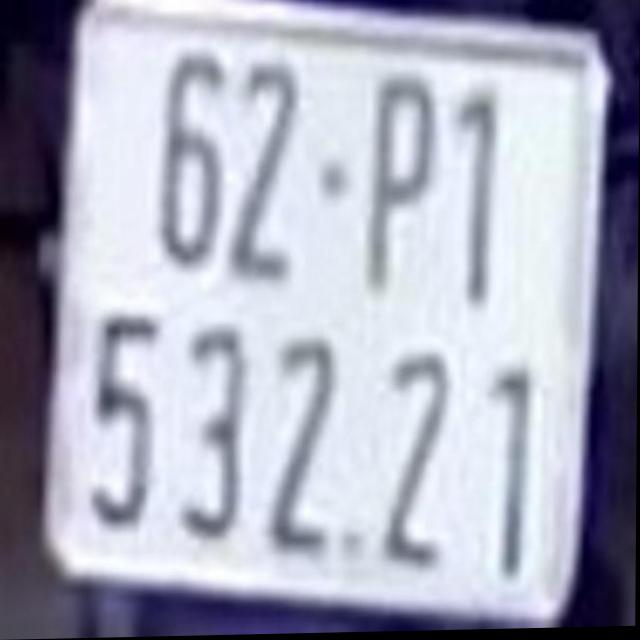1: (484, 360, 530, 583), (450, 89, 495, 311)
2: (382, 344, 447, 572), (241, 62, 298, 283), (280, 339, 333, 557)
3: (184, 322, 244, 537)
5: (95, 309, 153, 530)
6: (157, 37, 221, 262)
P: (370, 74, 431, 295)
